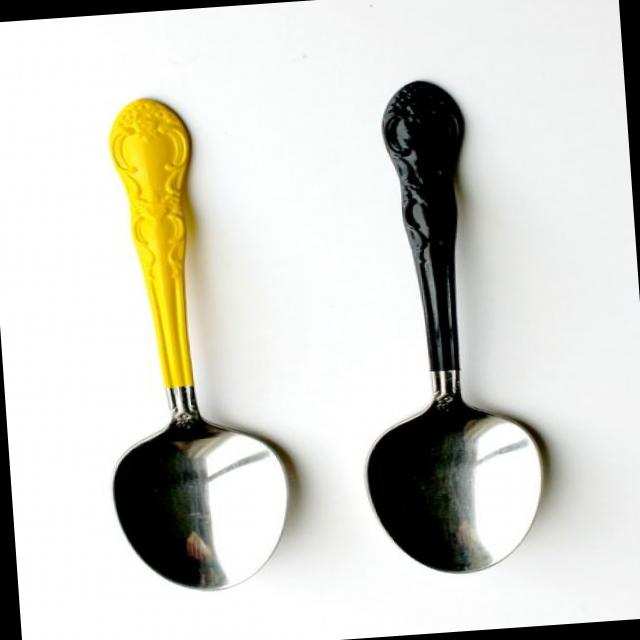spoon: (46, 78, 314, 602)
